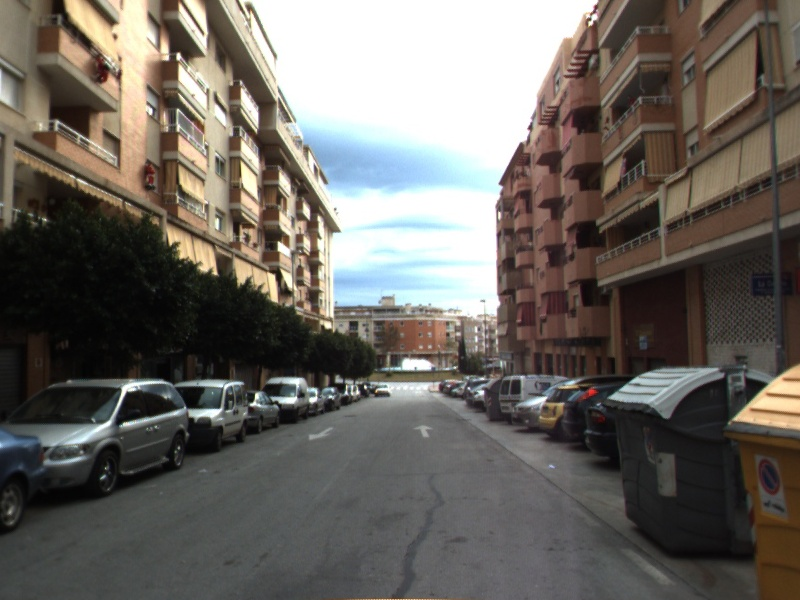STRAIGHT: (411, 422, 435, 439)
